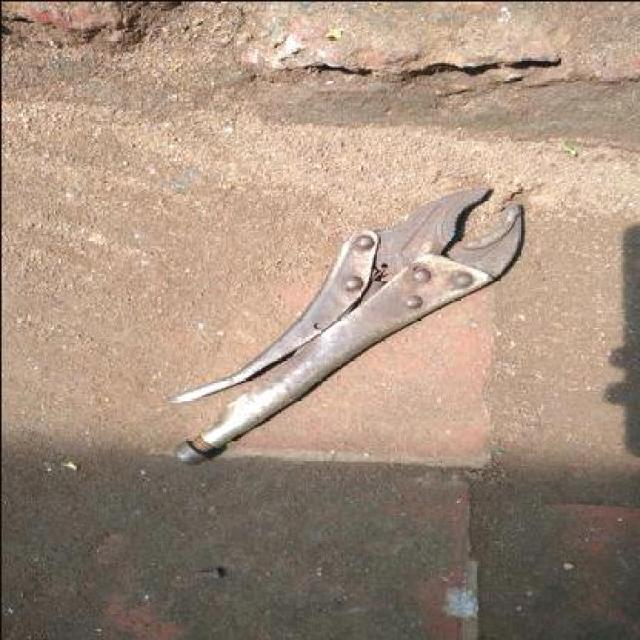pliers: (168, 178, 526, 470)
